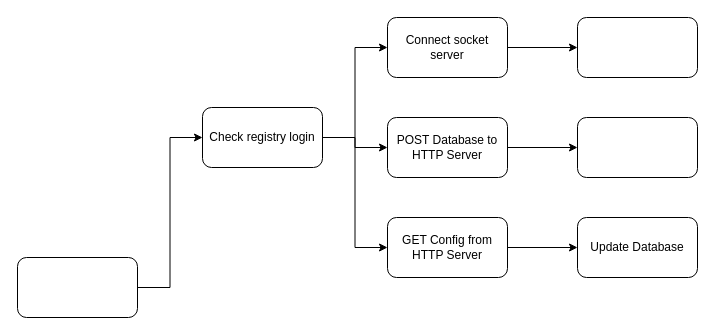
Image size: 715x335. Some labels were removed from this diagram. The centre of each missing label's shape, as x and y in pixels:
"Chạy chương trình" belongs at (77,287).
"Command control" belongs at (637,47).
"Delete Database" belongs at (637,147).
